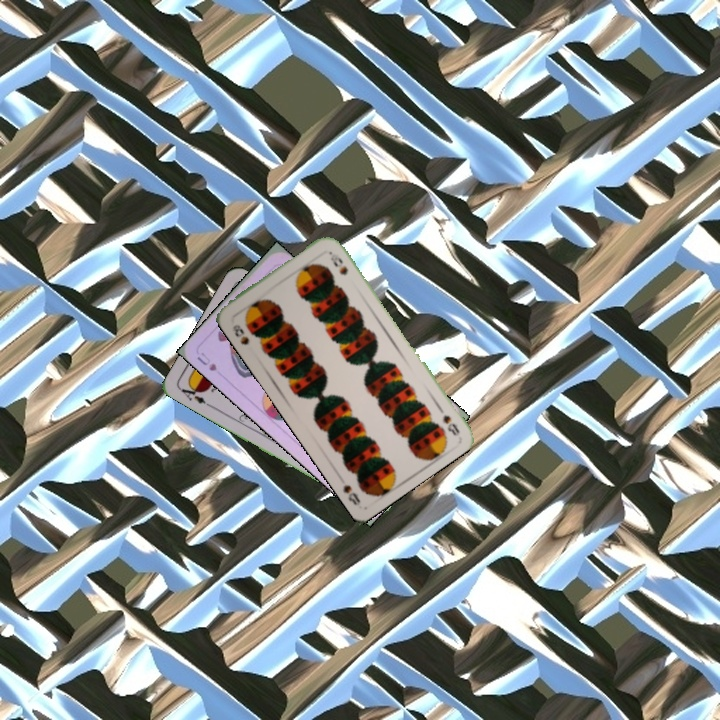EA: (176, 380, 213, 409)
S8: (433, 402, 462, 438), (228, 320, 252, 347)
SU: (193, 348, 219, 374)
